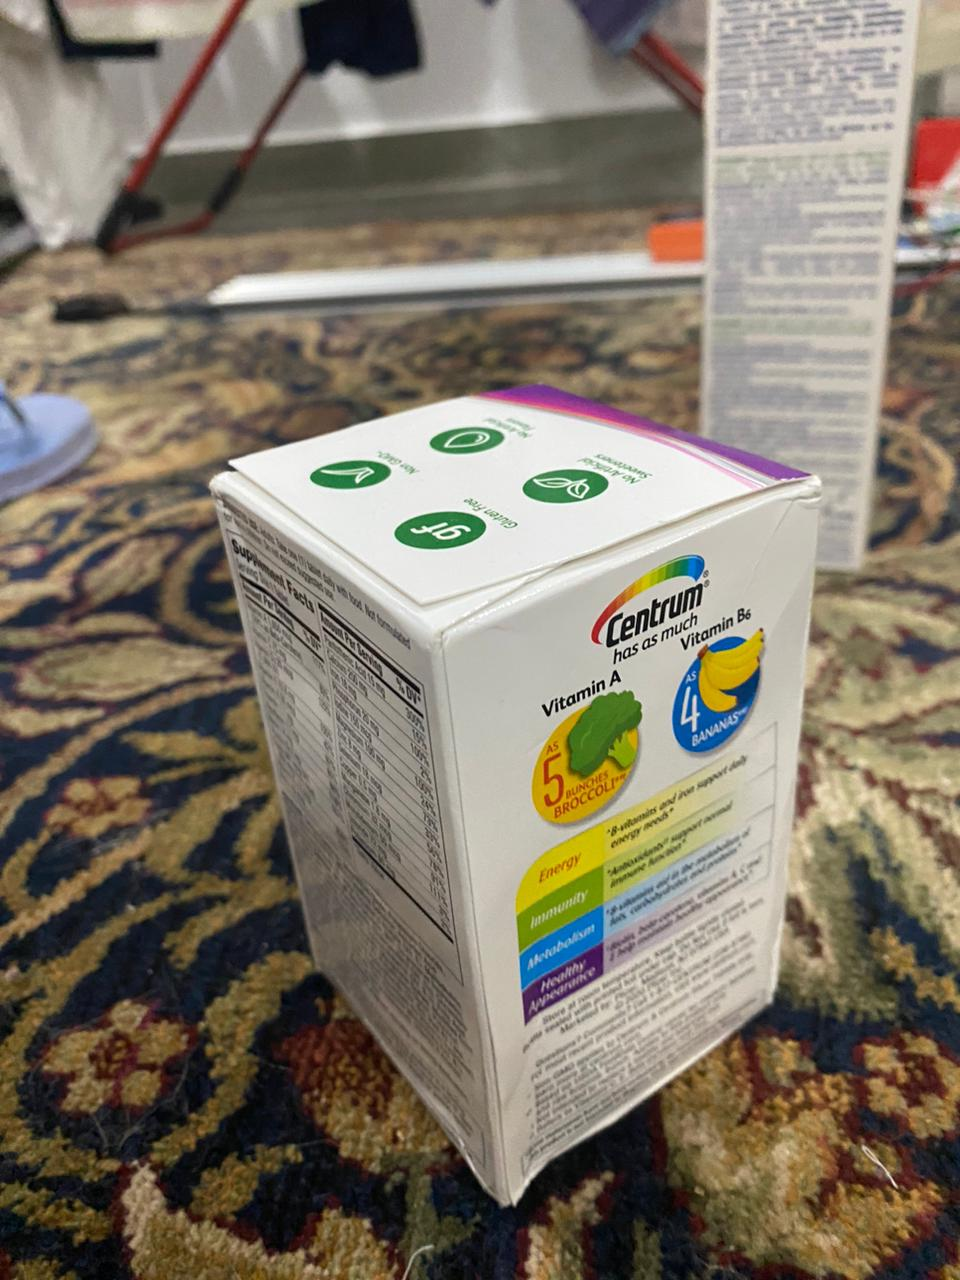Centrum: (202, 381, 820, 1212)
Physiomer: (698, 2, 917, 592)
